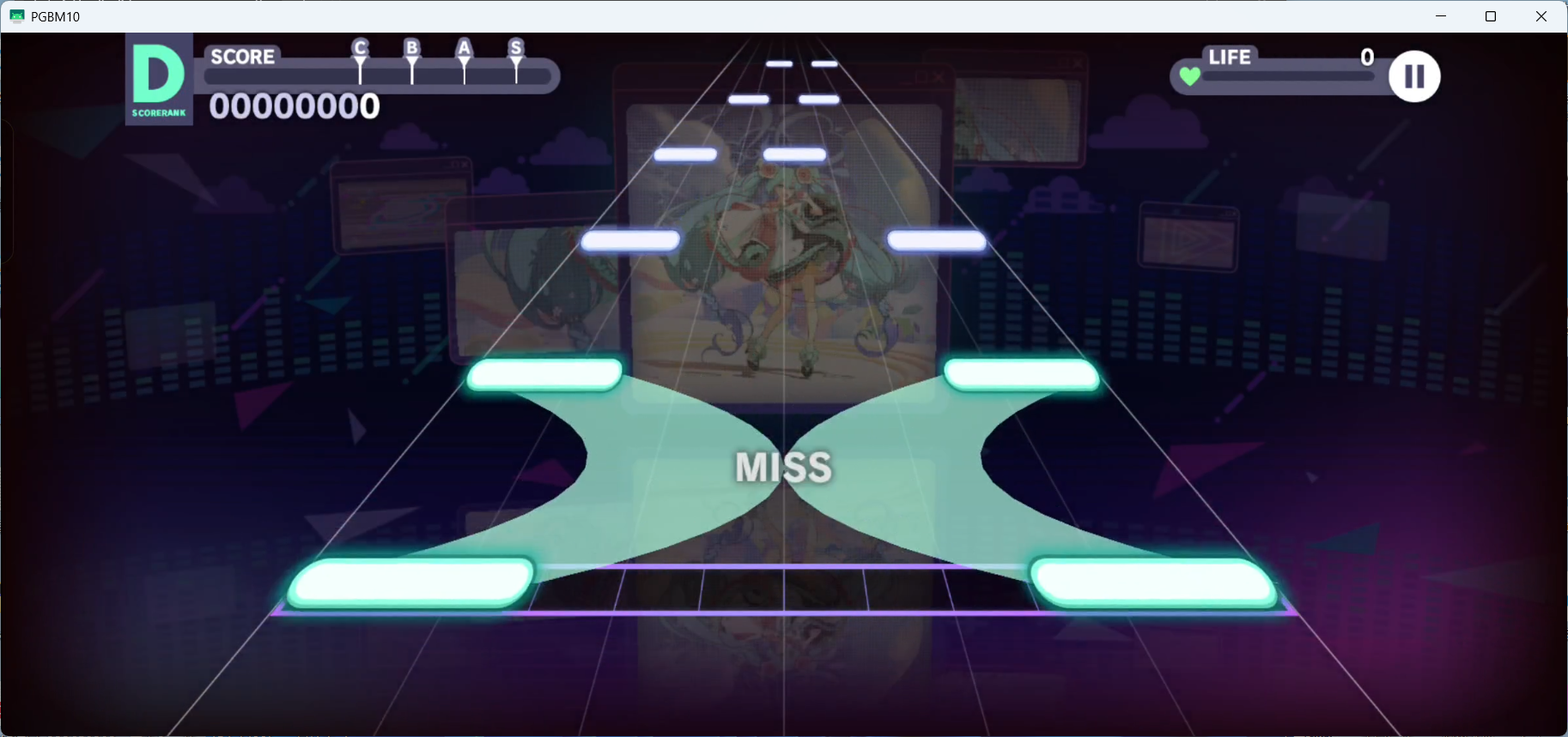hold: (788, 391, 1168, 559), (408, 392, 785, 559)
tap: (286, 556, 537, 612), (1029, 557, 1279, 608), (468, 359, 623, 394), (943, 358, 1100, 391), (577, 228, 680, 251), (885, 230, 987, 253), (763, 145, 824, 162), (653, 145, 717, 160), (799, 94, 840, 105), (728, 95, 769, 104), (811, 60, 838, 68), (766, 60, 793, 67)
